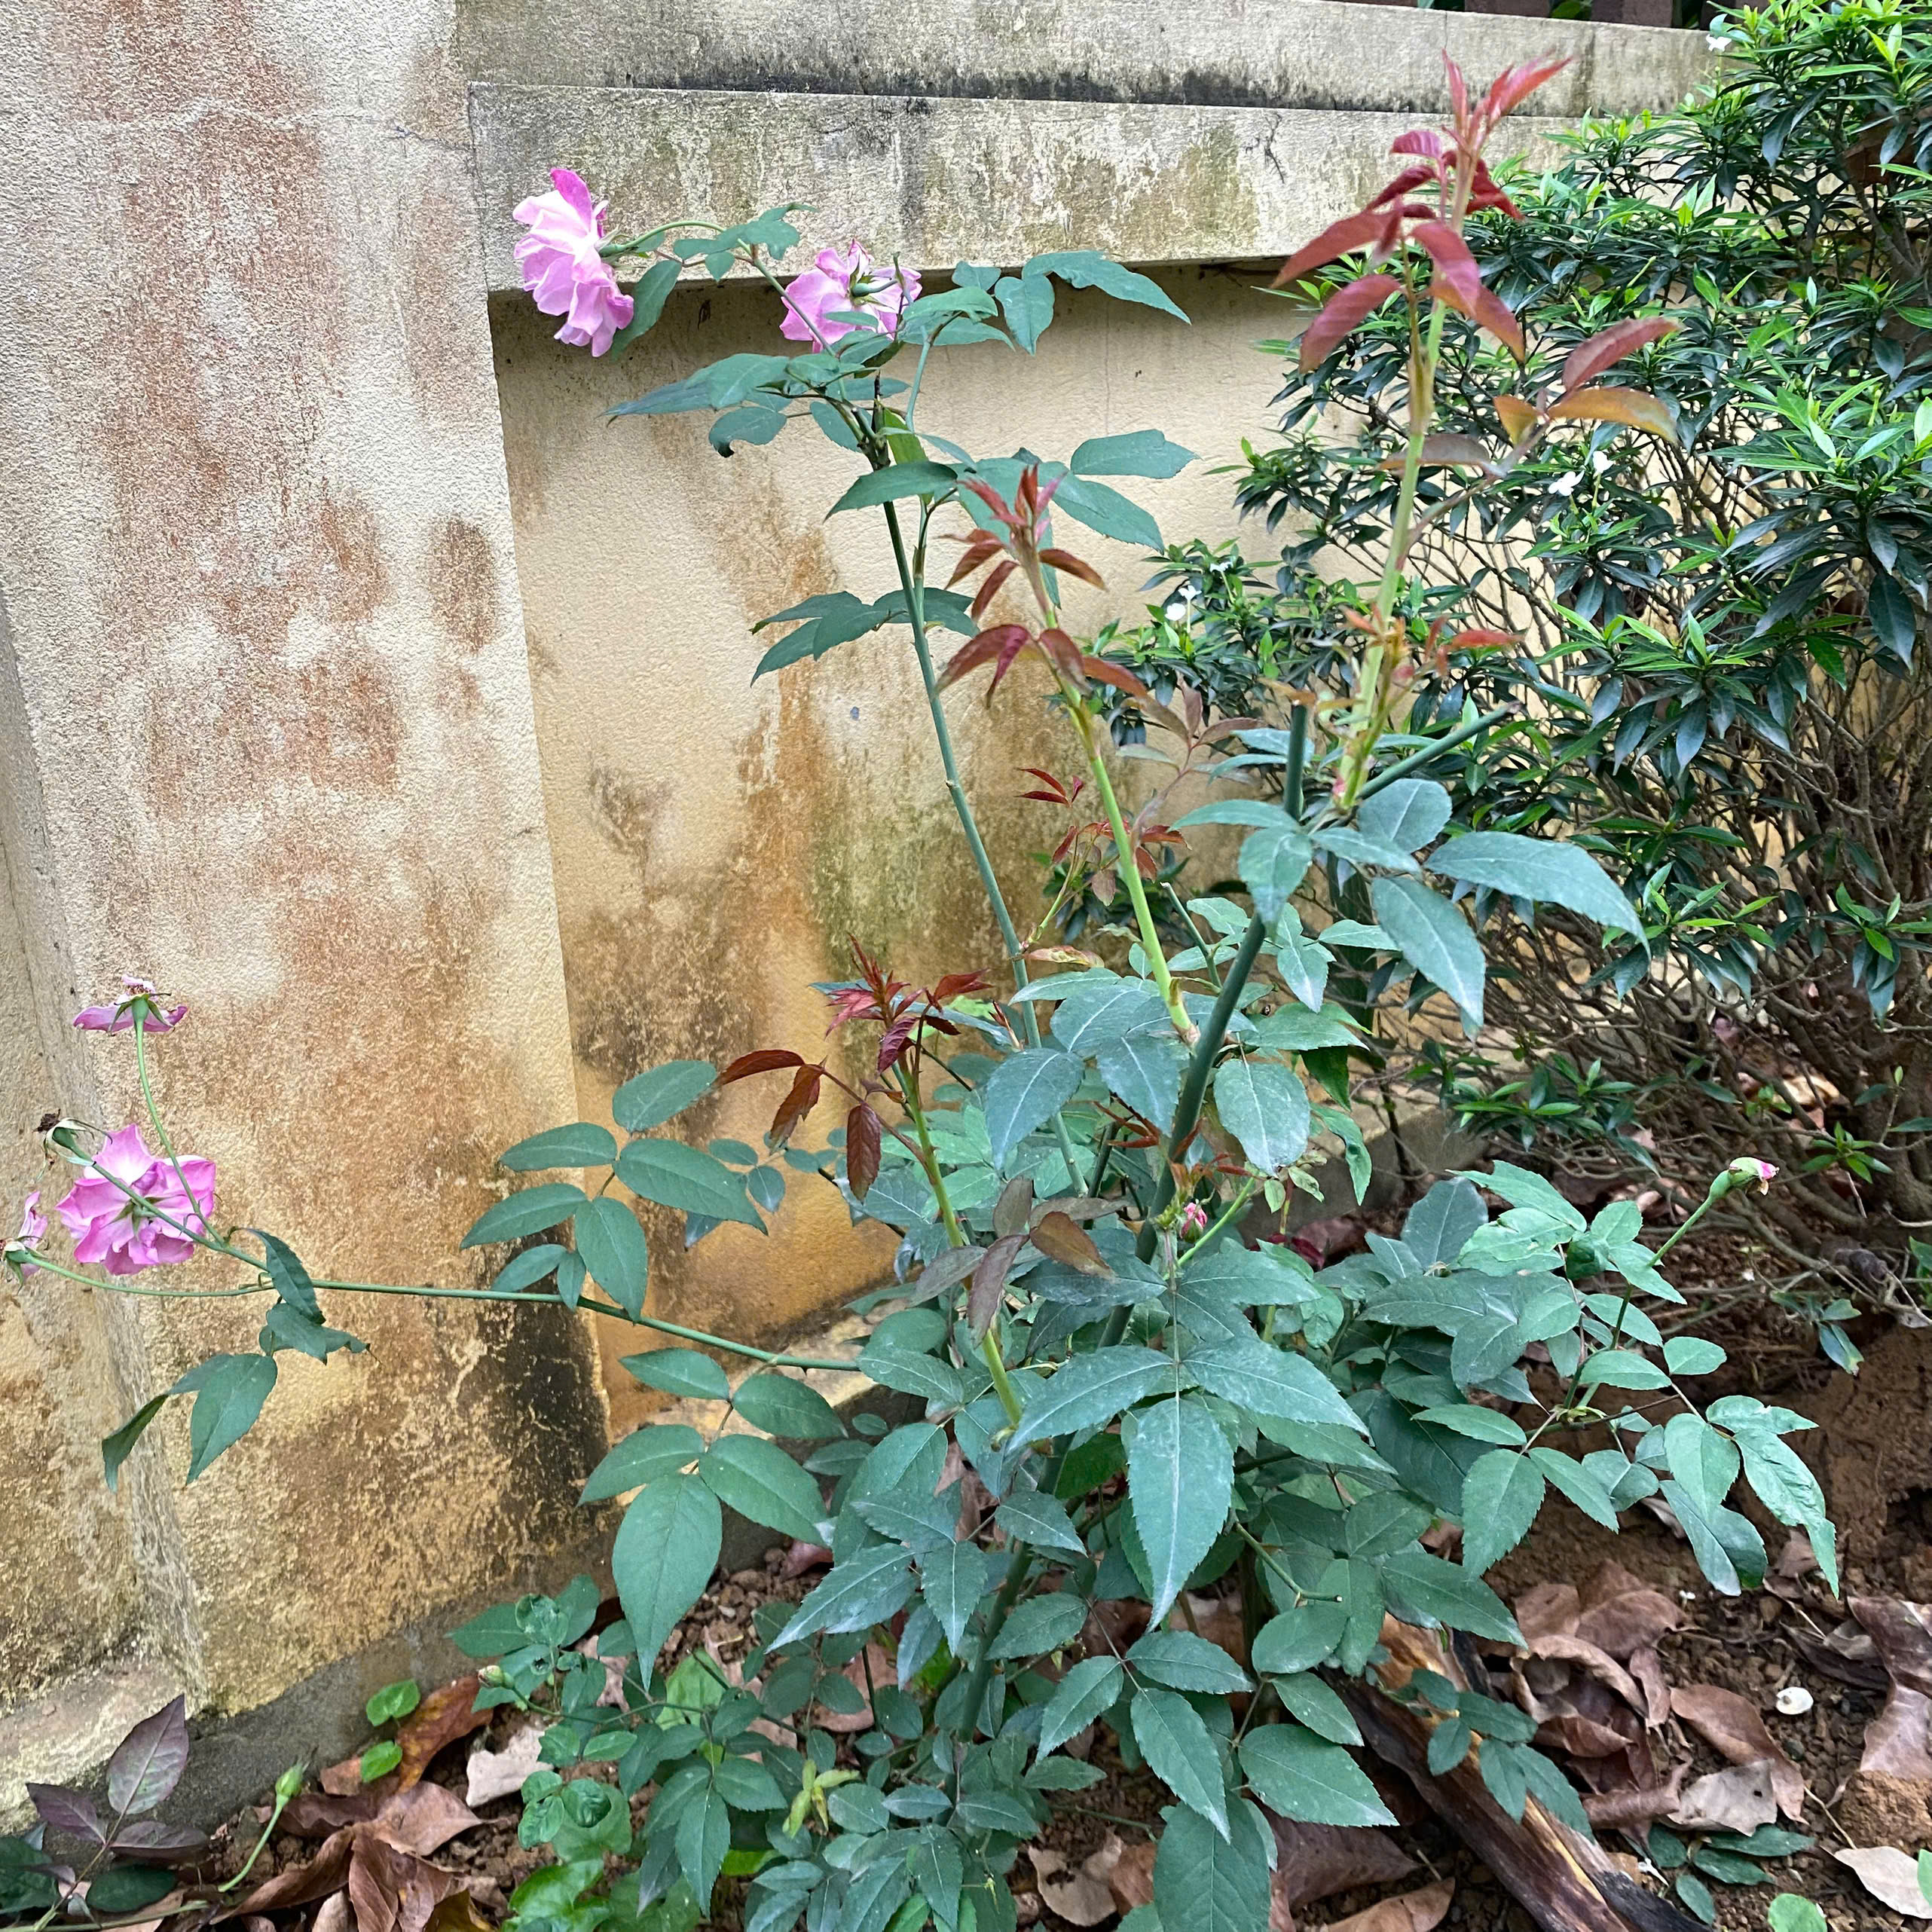hoa_hong_phan: (421, 152, 1698, 1932)
